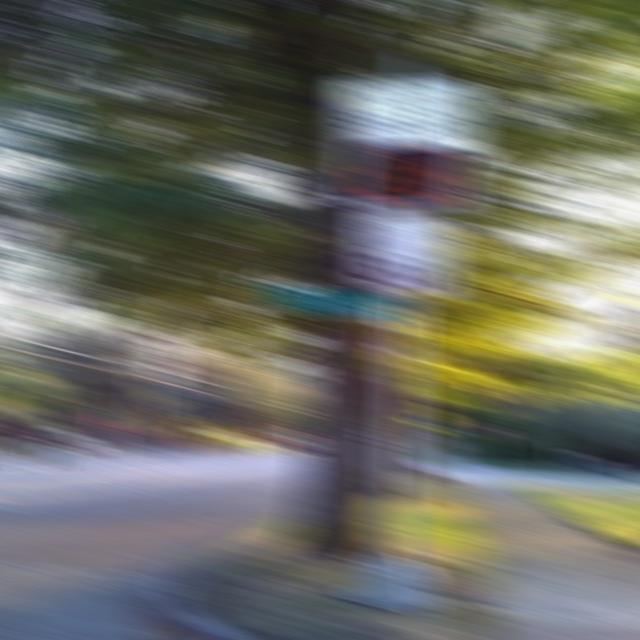speedLimit30: (352, 211, 463, 301)
